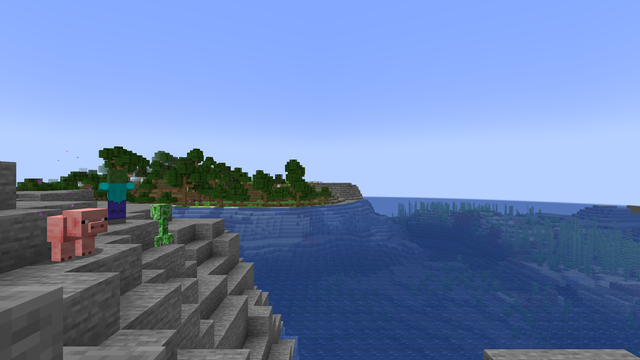cochons: (40, 211, 101, 262)
creepers: (148, 201, 171, 245)
zombies: (102, 170, 131, 224)
